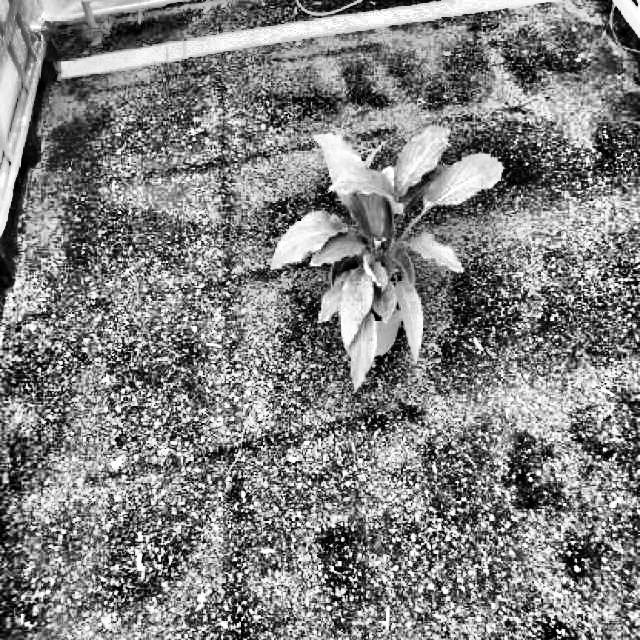plants: (273, 128, 504, 387)
